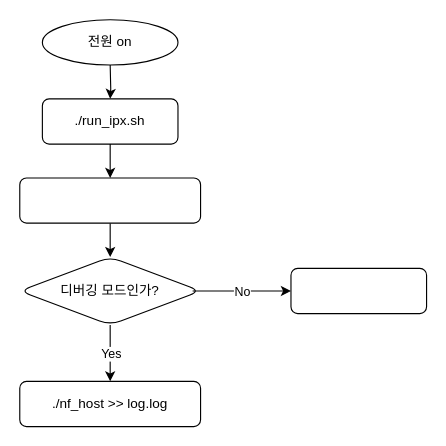
The diagram is 446 pixels wide and 446 high, and some of its shapes have lost their labels. The shapes that lost their labels are listed below. From the top down, each one's centre as x and y in pixels, then its label:
At (x=110, y=200): "./capture_serial_nfhost.sh".
At (x=358, y=290): "./nf_host".
